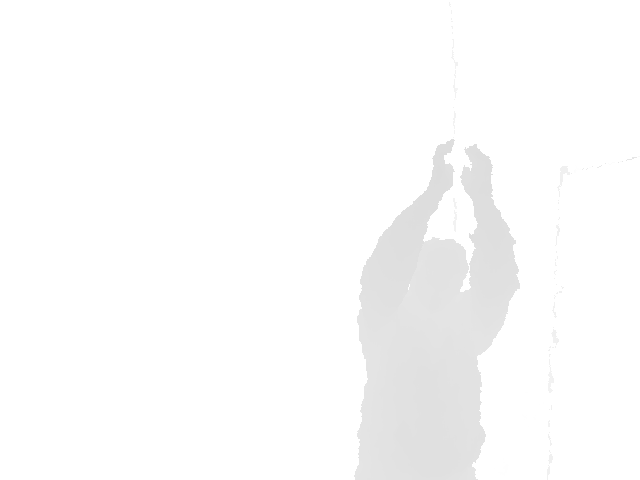hand: (458, 144, 495, 195), (428, 137, 455, 193)
head: (407, 237, 470, 304)
person: (352, 137, 522, 480)
